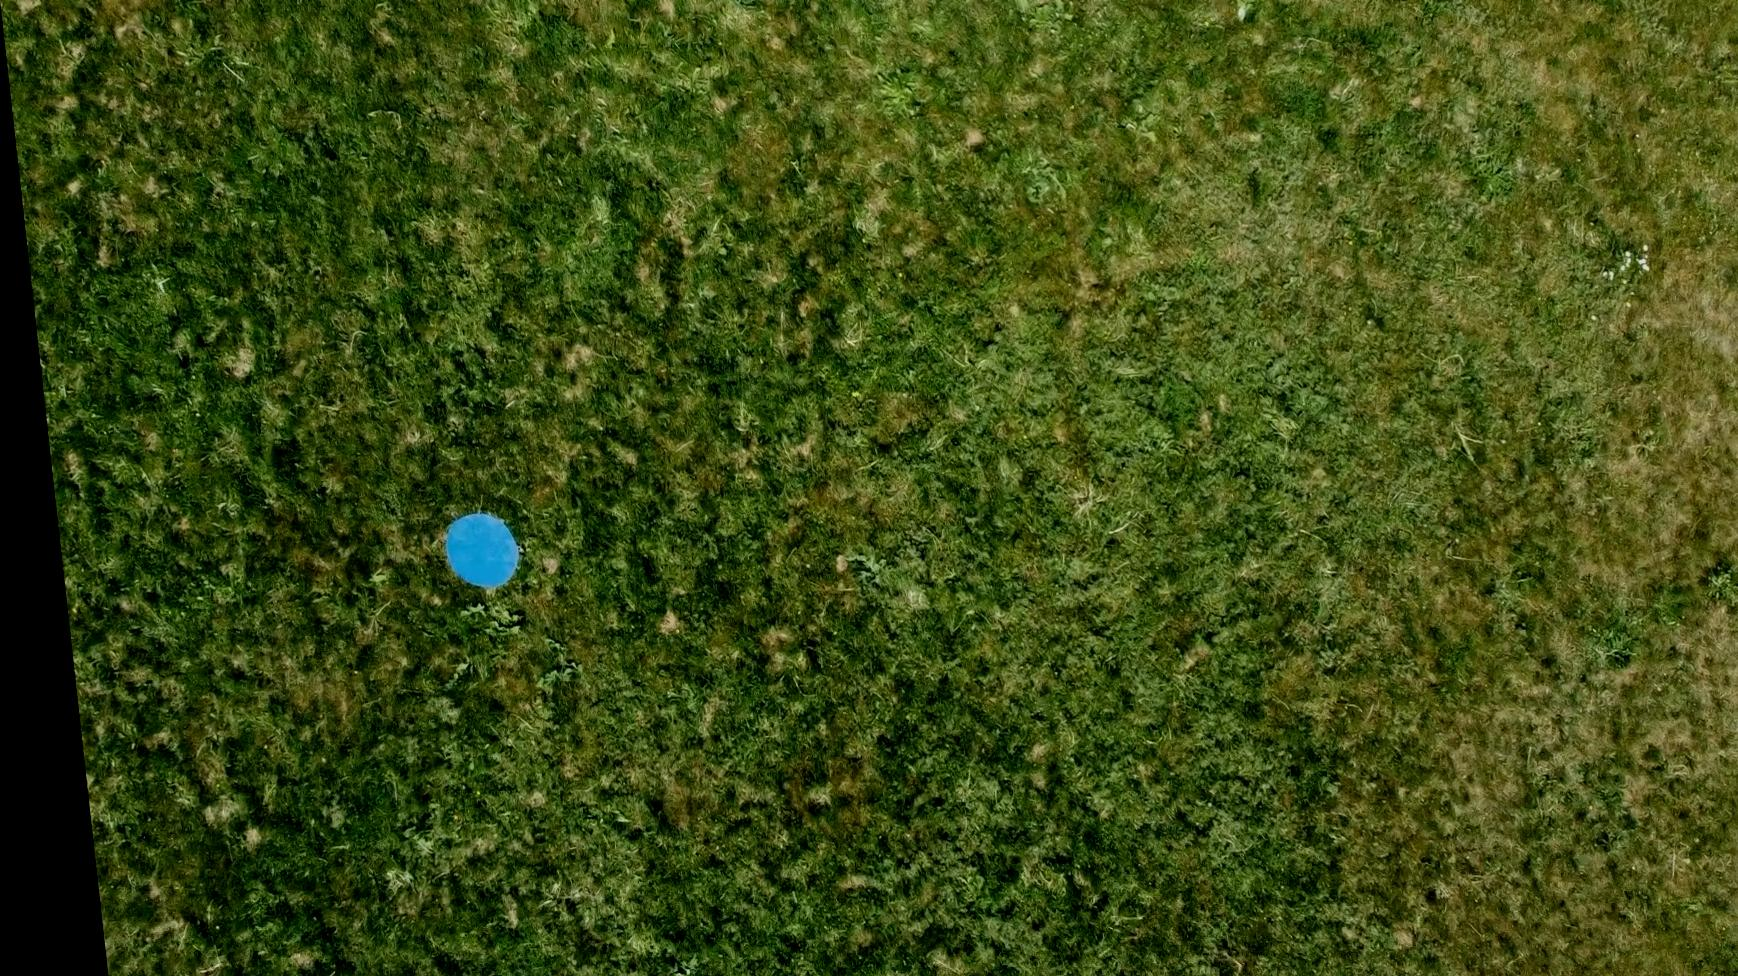Blue: (426, 511, 513, 591)
